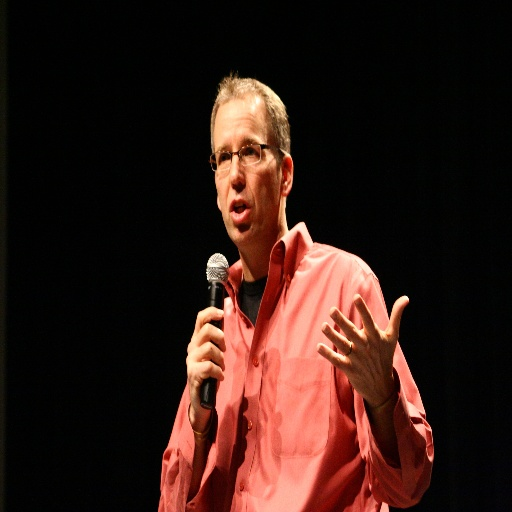hand: (326, 291, 411, 440), (185, 304, 225, 417)
